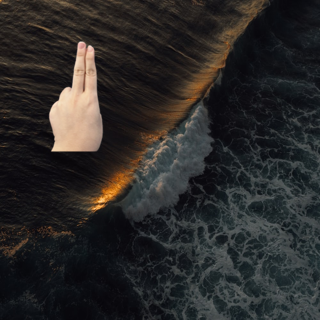DHAVE: (42, 37, 109, 152)
